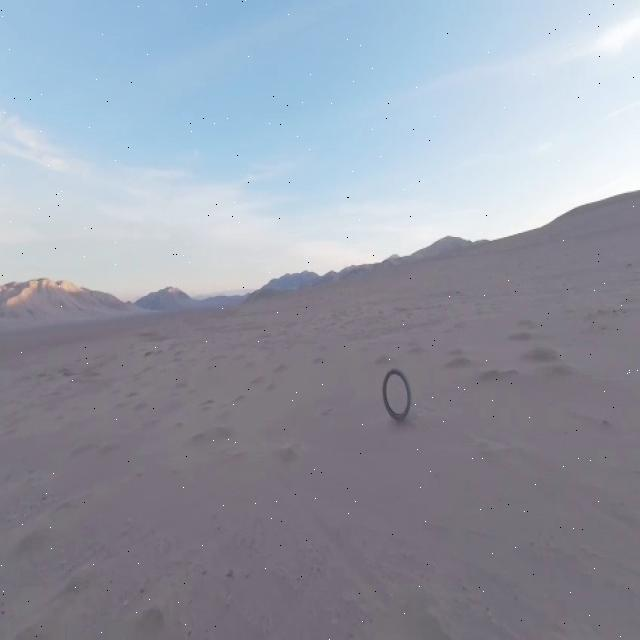Tire: (383, 368, 411, 420)
